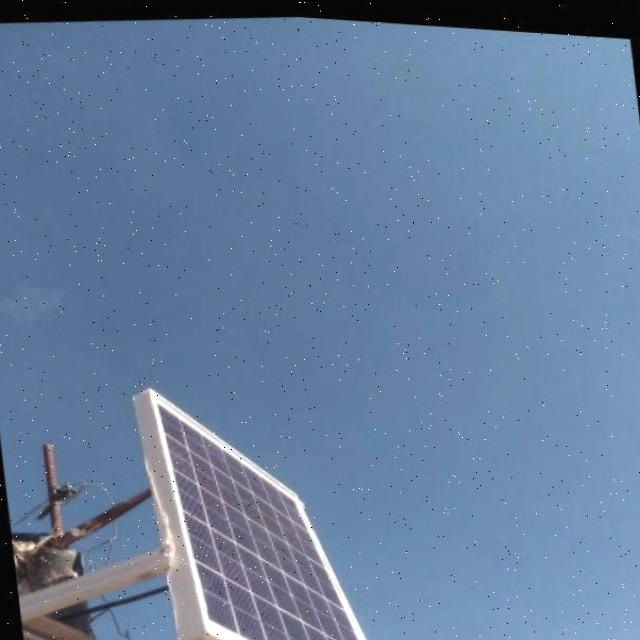Normal Solar Panel: (147, 367, 406, 640)
